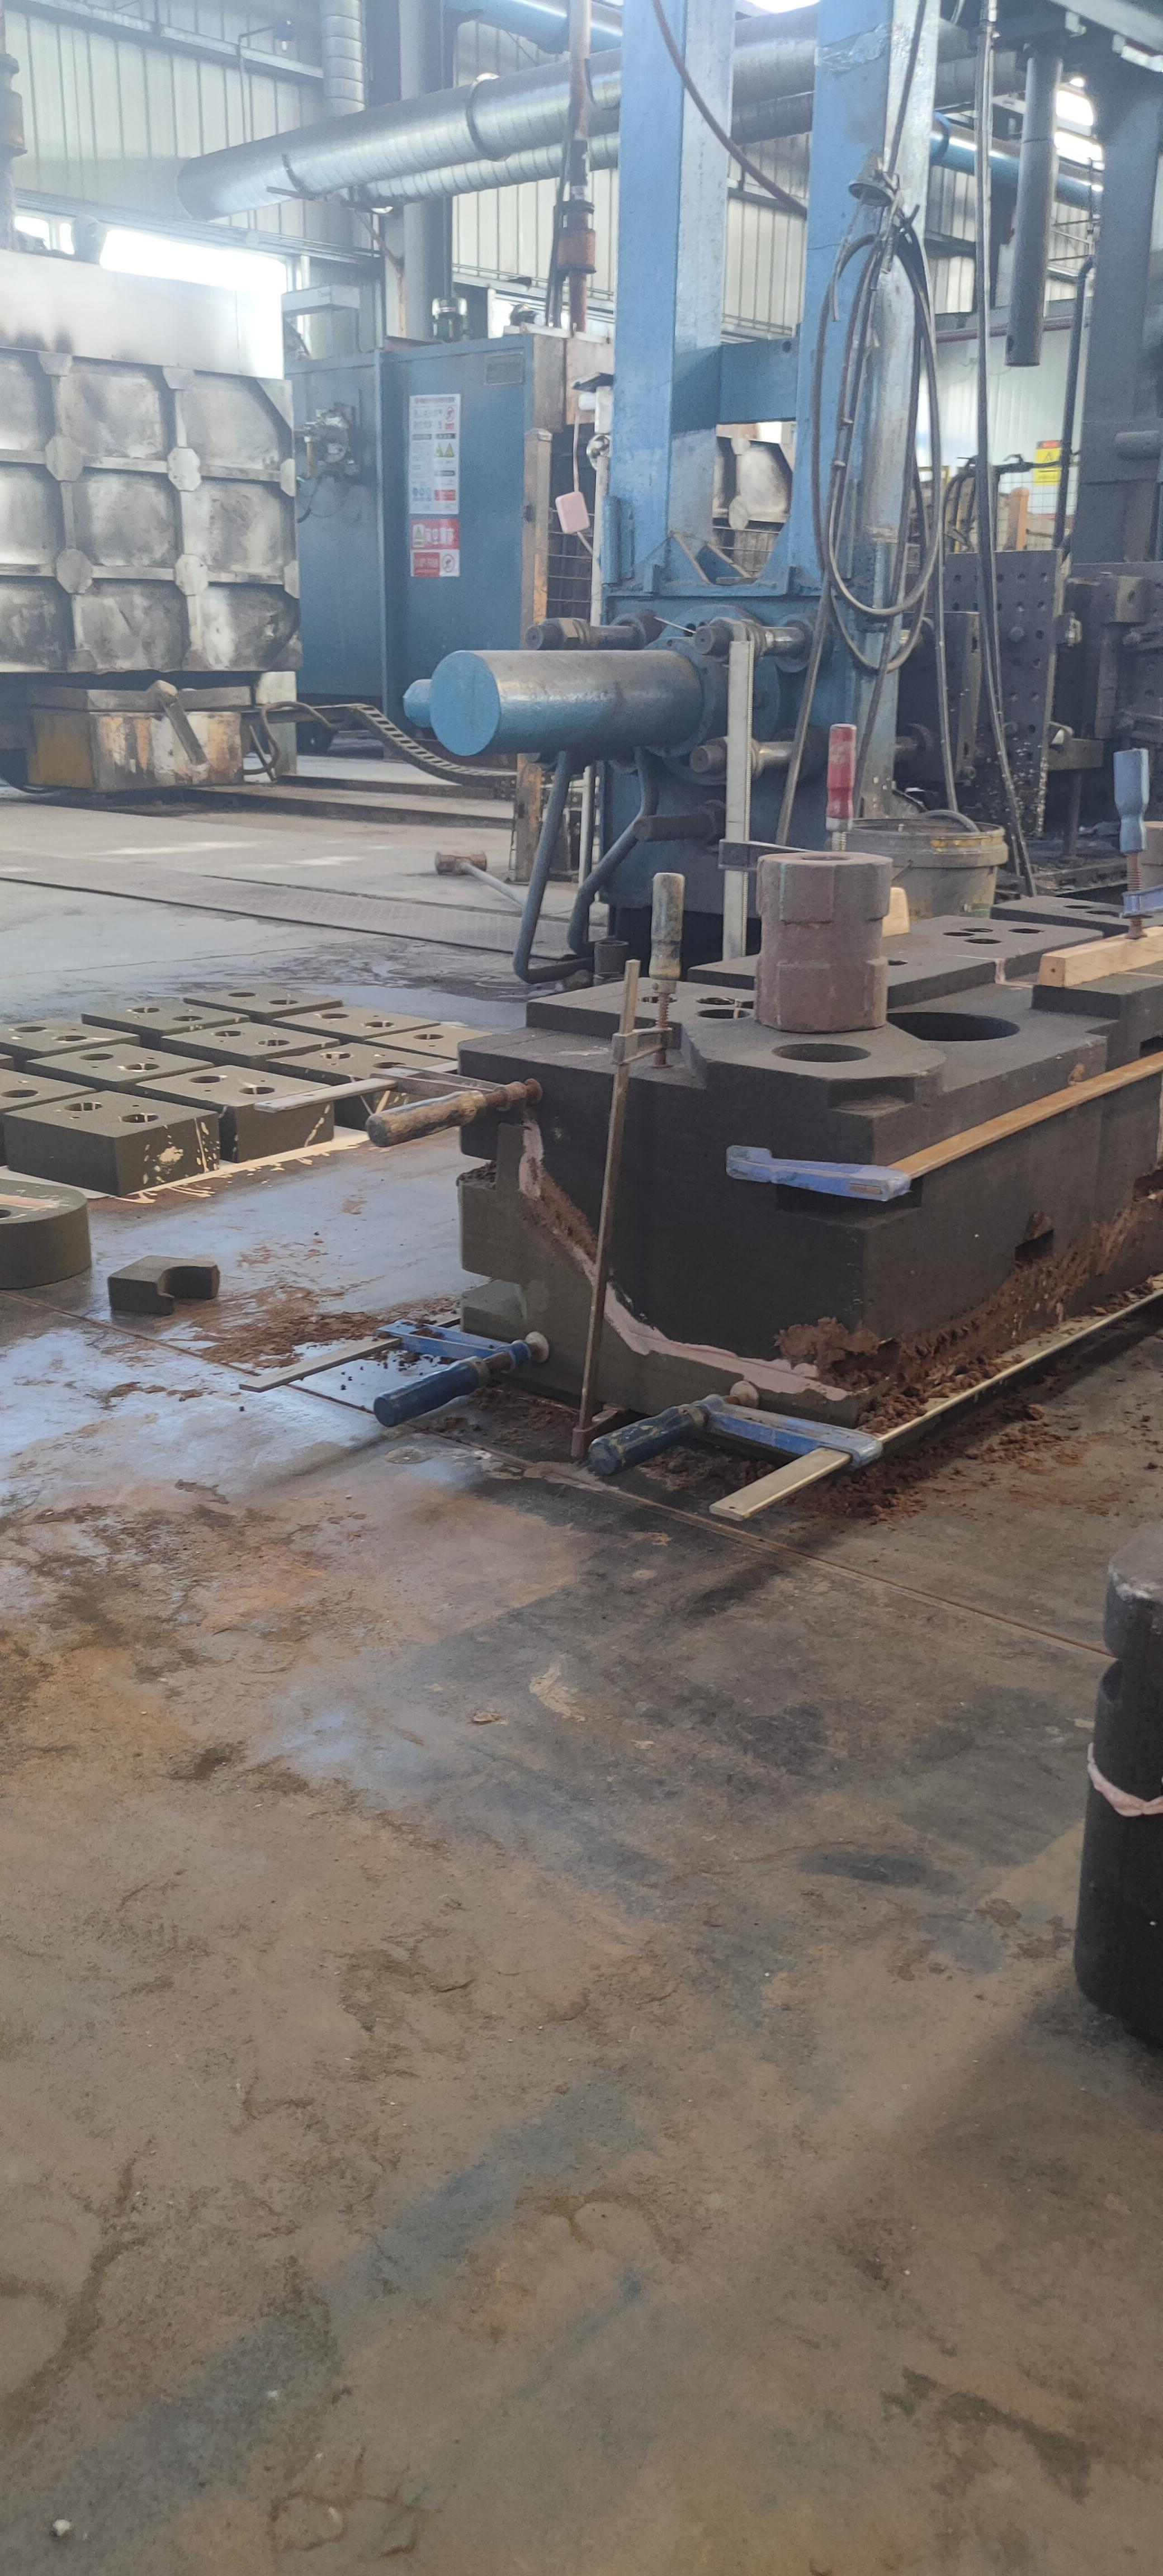pouring hole: (769, 1043, 872, 1063), (235, 1086, 276, 1096), (118, 1112, 156, 1122), (189, 1074, 225, 1084), (371, 1060, 404, 1070), (122, 1063, 159, 1071), (2, 1089, 39, 1097), (64, 1102, 102, 1111), (171, 1014, 202, 1023), (256, 1038, 291, 1046), (10, 1025, 44, 1033), (319, 1051, 352, 1060), (79, 1053, 112, 1061), (414, 1033, 445, 1042), (365, 1020, 396, 1028), (128, 1005, 159, 1014), (212, 1028, 241, 1037), (51, 1035, 87, 1042), (453, 1040, 485, 1046), (317, 1012, 348, 1019), (268, 999, 297, 1005), (228, 991, 258, 997)
